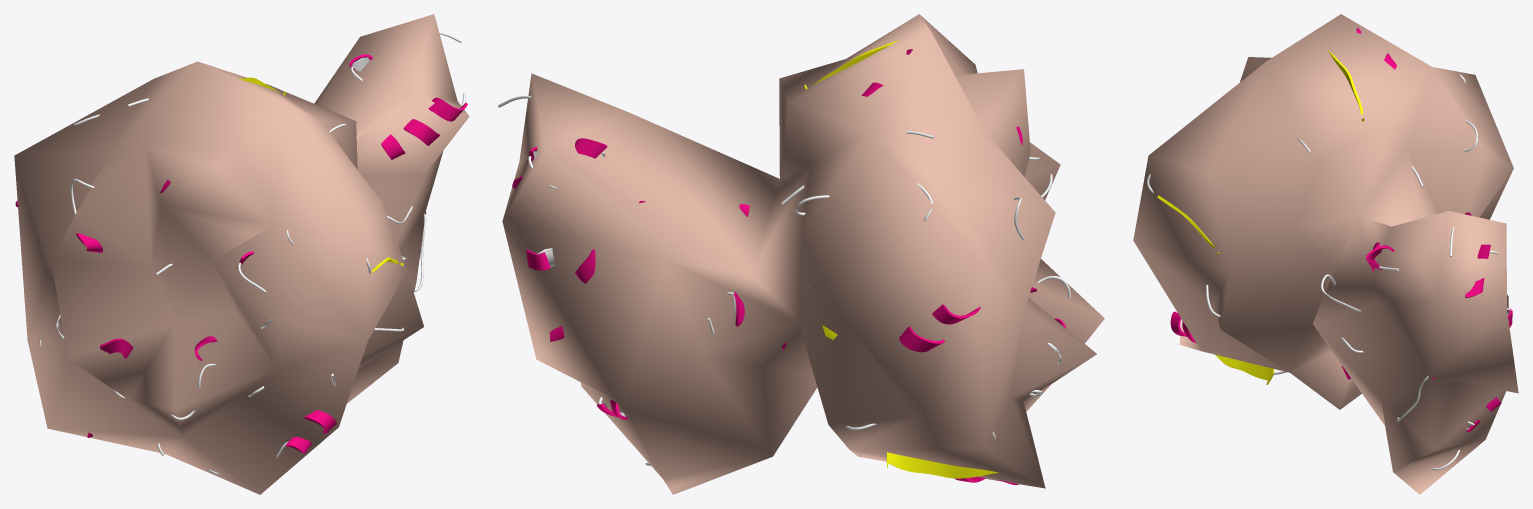
The model's file is 2choleratoxinCOARSE.fbx.
The picture shows the model from 3 angles, left to right: view 1: azimuth 30°, elevation 25°; view 2: azimuth 150°, elevation 25°; view 3: azimuth 270°, elevation 25°; orthographic projection. The views are drawn at different scales.
Parts seen in each view (by area): view 1: CoarseMS_1xtc_3, 1xtc_C_Helix1, 1xtc_H_Helix1; view 2: CoarseMS_1xtc_3, 1xtc_D_Strand1, 1xtc_E_Helix1, 1xtc_A_Helix4; view 3: CoarseMS_1xtc_3, 1xtc_H_Strand3.
Boxes of the visible parts, x1=… form: CoarseMS_1xtc_3: x1=14, y1=14, x2=469, y2=494; 1xtc_C_Helix1: x1=381, y1=97, x2=467, y2=159; 1xtc_H_Helix1: x1=286, y1=410, x2=336, y2=453; CoarseMS_1xtc_3: x1=502, y1=14, x2=1104, y2=494; 1xtc_D_Strand1: x1=886, y1=452, x2=998, y2=478; 1xtc_E_Helix1: x1=899, y1=304, x2=980, y2=352; 1xtc_A_Helix4: x1=526, y1=249, x2=595, y2=283; CoarseMS_1xtc_3: x1=1133, y1=14, x2=1518, y2=494; 1xtc_H_Strand3: x1=1215, y1=354, x2=1274, y2=384.
Size of the model in its own units: 80.78 by 70.83 by 62.43.
